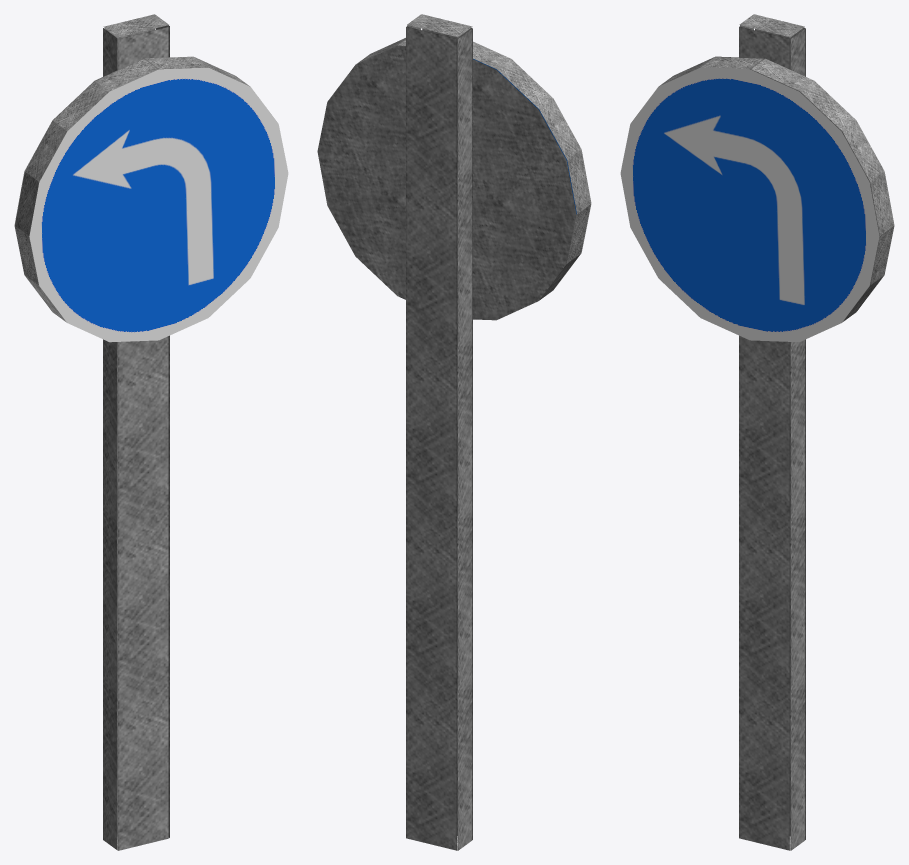
Rendered from LeftTurn(2).fbx.
The picture shows the model from 3 angles, left to right: view 1: azimuth 30°, elevation 25°; view 2: azimuth 150°, elevation 25°; view 3: azimuth 330°, elevation 25°; orthographic projection.
Parts seen in each view (by area): view 1: Senyal Obligatori gir R; view 2: Senyal Obligatori gir R; view 3: Senyal Obligatori gir R.
Part boxes in pixels (bbox=[...]): Senyal Obligatori gir R: bbox=[14, 14, 288, 850]; Senyal Obligatori gir R: bbox=[317, 14, 591, 850]; Senyal Obligatori gir R: bbox=[620, 14, 894, 850].
Size of the model in its own units: 100 by 300 by 20.
Materials: 1 (1 with a texture image).
